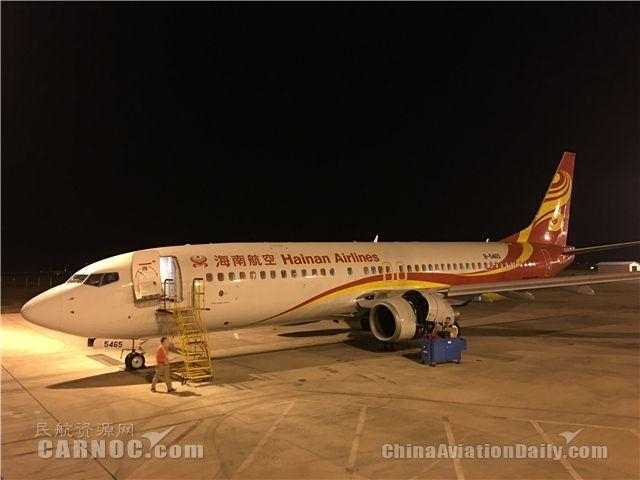airplane: (20, 151, 597, 372)
